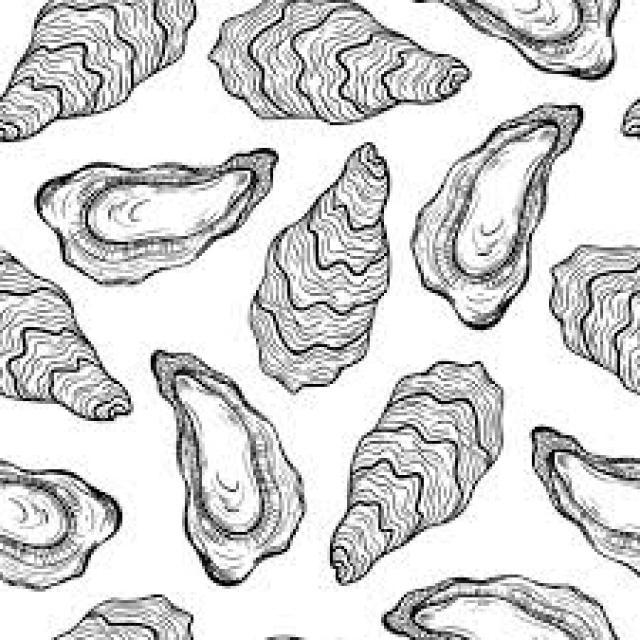Oyster- Indeterminate: (320, 354, 511, 588), (248, 135, 394, 397), (207, 0, 477, 126), (0, 0, 199, 145), (0, 240, 136, 428), (546, 238, 640, 395), (37, 583, 205, 640), (614, 96, 640, 134)
Oyster-Open: (407, 96, 592, 339), (138, 346, 310, 592), (29, 140, 282, 290), (522, 416, 640, 583), (0, 441, 125, 589), (372, 569, 626, 640), (411, 0, 624, 83)
